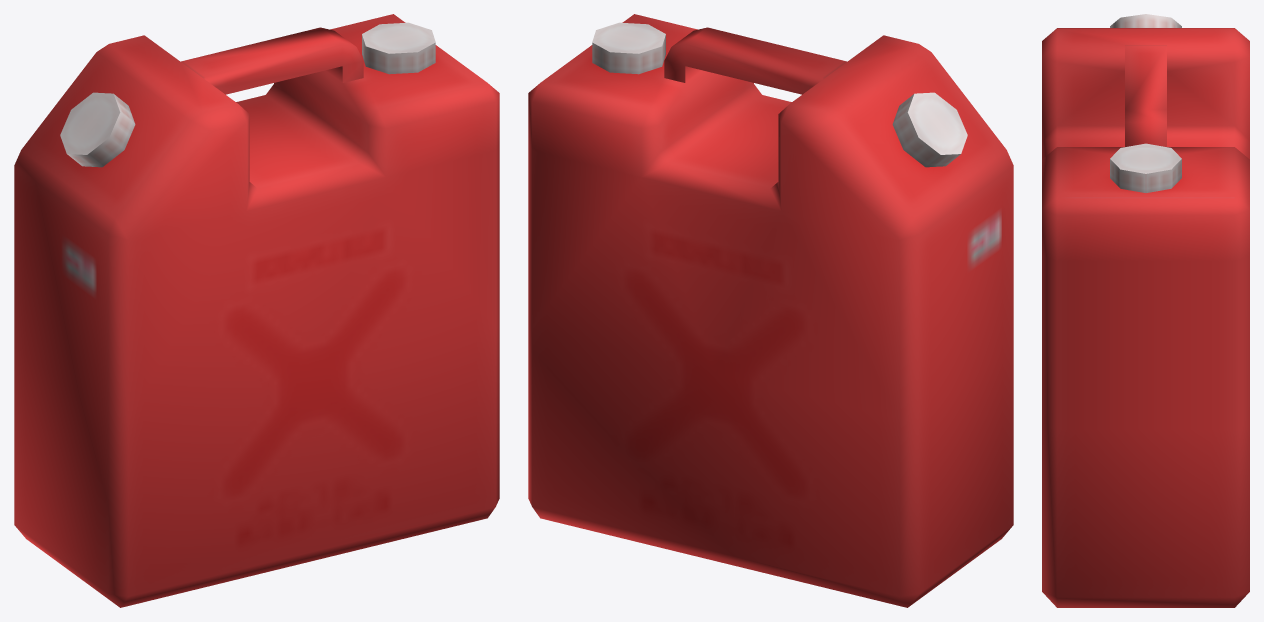
File: jsf_PolyTank_01.fbx
The picture shows the model from 3 angles, left to right: view 1: azimuth 30°, elevation 25°; view 2: azimuth 150°, elevation 25°; view 3: azimuth 270°, elevation 25°; orthographic projection. The views are drawn at different scales.
Visible parts, largest first — view 1: jsf_PolyTank_01; view 2: jsf_PolyTank_01; view 3: jsf_PolyTank_01.
Part boxes in pixels (x1,y1,x2,y2): jsf_PolyTank_01: (14,14,499,607); jsf_PolyTank_01: (528,14,1013,607); jsf_PolyTank_01: (1042,14,1249,607).
Bounding box in the file's own units: 35.69 × 41.38 × 17.4.
